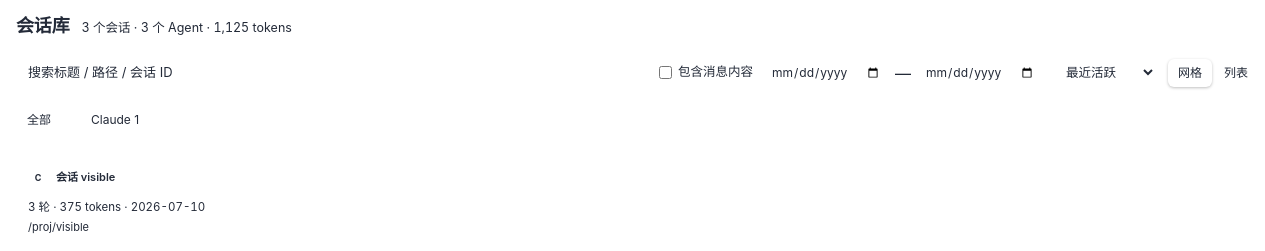
Test: SessionLibrary (t227) › t248 AC5：内容搜索把后端筛选交给 searchContent，不从 renderer 已加载页拼全集
Expected: the text "会话 visible" is shown, [56,169,115,186]
Step 1. Click the checkbox labelled "包含消息内容" → (666, 73), box [659,66,672,79]
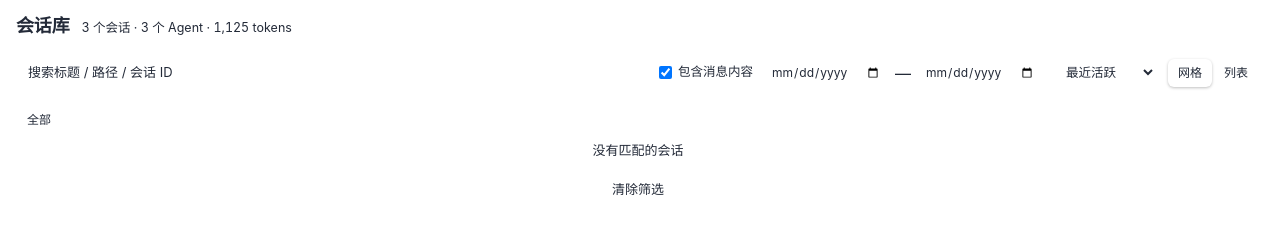
Step 2. Type "秘密词" into the field with placeholder "搜索标题 / 路径 / 会话 ID" → (332, 73), box [16,55,649,90]
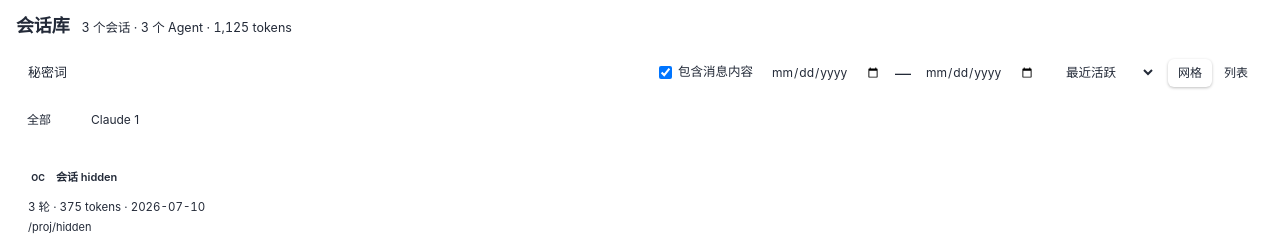
Now the text "会话 hidden" is shown, box [56,169,117,186]
